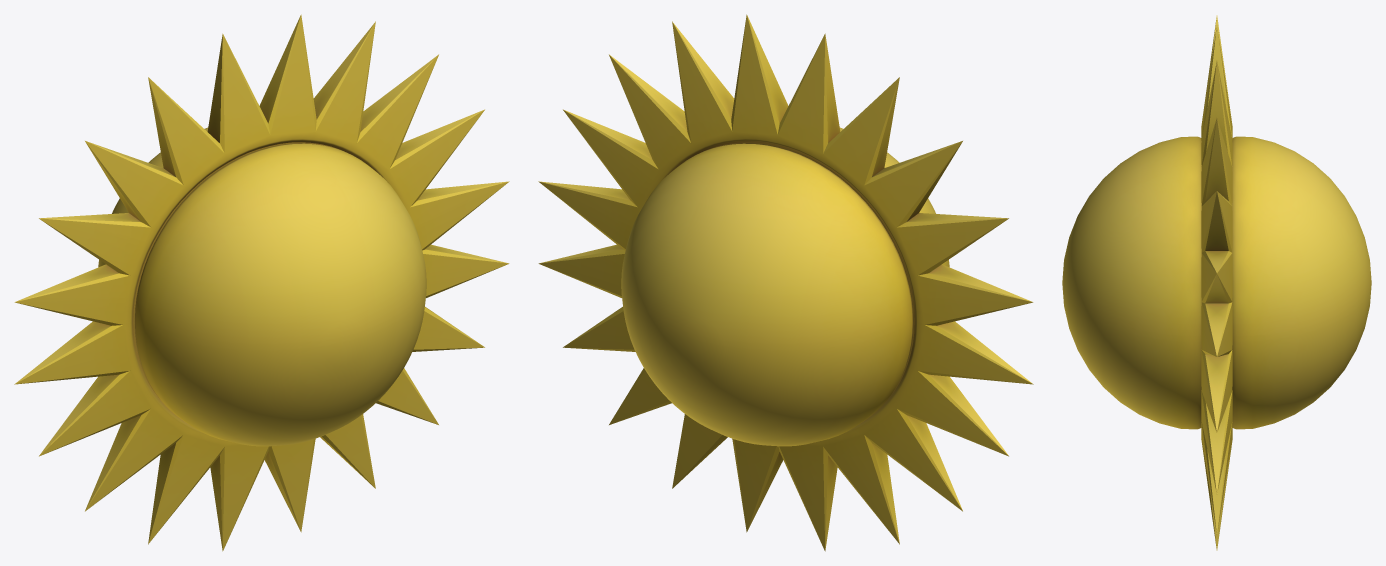
The model's file is sun.obj.
The picture shows the model from 3 angles, left to right: view 1: azimuth 30°, elevation 25°; view 2: azimuth 150°, elevation 25°; view 3: azimuth 270°, elevation 25°; orthographic projection. The views are drawn at different scales.
Parts seen in each view (by area): view 1: obj1; view 2: obj1; view 3: obj1.
Part boxes in pixels (box(x1,y1,x2,y2)): obj1: box(14, 14, 509, 551); obj1: box(538, 14, 1033, 551); obj1: box(1062, 15, 1371, 550).
Bounding box in the file's own units: 0.2732 × 0.2732 × 0.159.
Materials: 1 (1 with a texture image).
